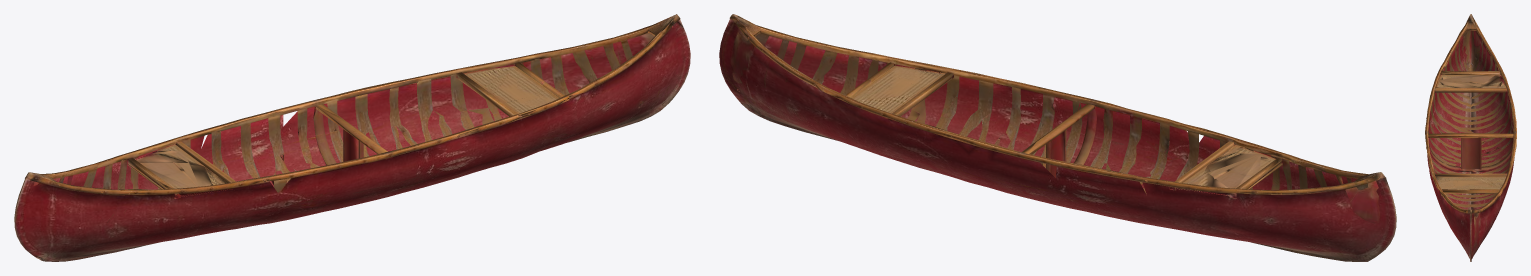
Rendered from skyways-d-of-canoe.glb.
3 views of the same model, side by side, from view 1: azimuth 30°, elevation 25°; view 2: azimuth 150°, elevation 25°; view 3: azimuth 270°, elevation 25° (orthographic). The views are drawn at different scales.
Parts seen in each view (by area): view 1: skyways-d-of-canoe; view 2: skyways-d-of-canoe; view 3: skyways-d-of-canoe.
Part boxes in pixels (x1,y1,x2,y2): skyways-d-of-canoe: (14,14,690,261); skyways-d-of-canoe: (719,14,1396,261); skyways-d-of-canoe: (1425,14,1516,261).
Size of the model in its own units: 5 by 0.7301 by 0.95.
Materials: 1 (1 with a texture image).
